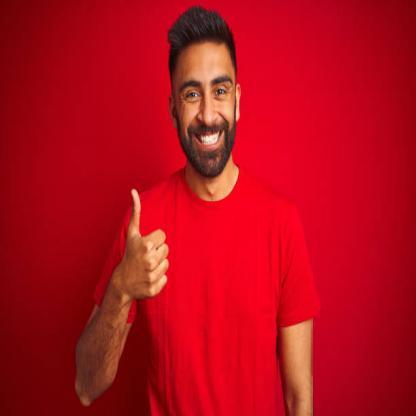thumb_up: (116, 185, 170, 301)
